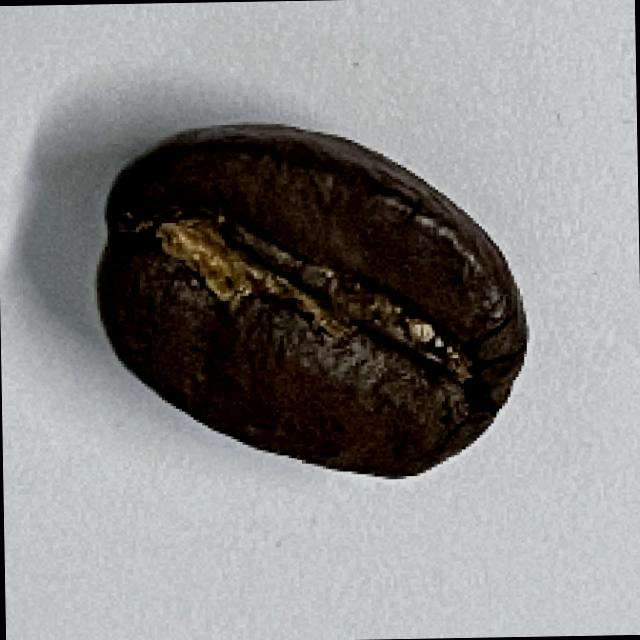bean: (94, 118, 532, 485)
